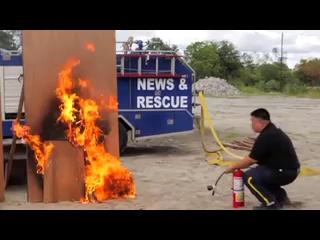Fire: (3, 48, 140, 204)
